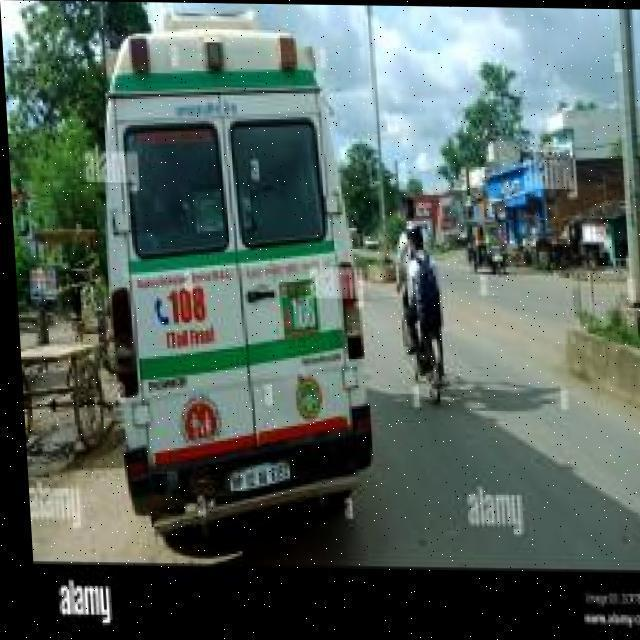Ambulance: (11, 241, 640, 570), (82, 11, 374, 542), (385, 220, 448, 390)
